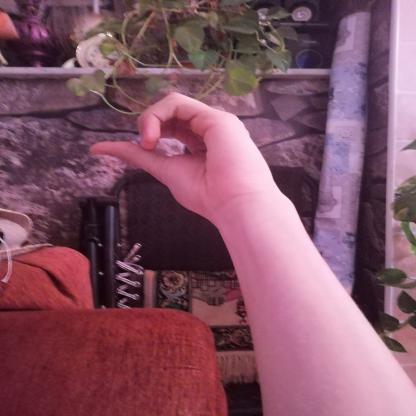WAW: (67, 83, 297, 233)
